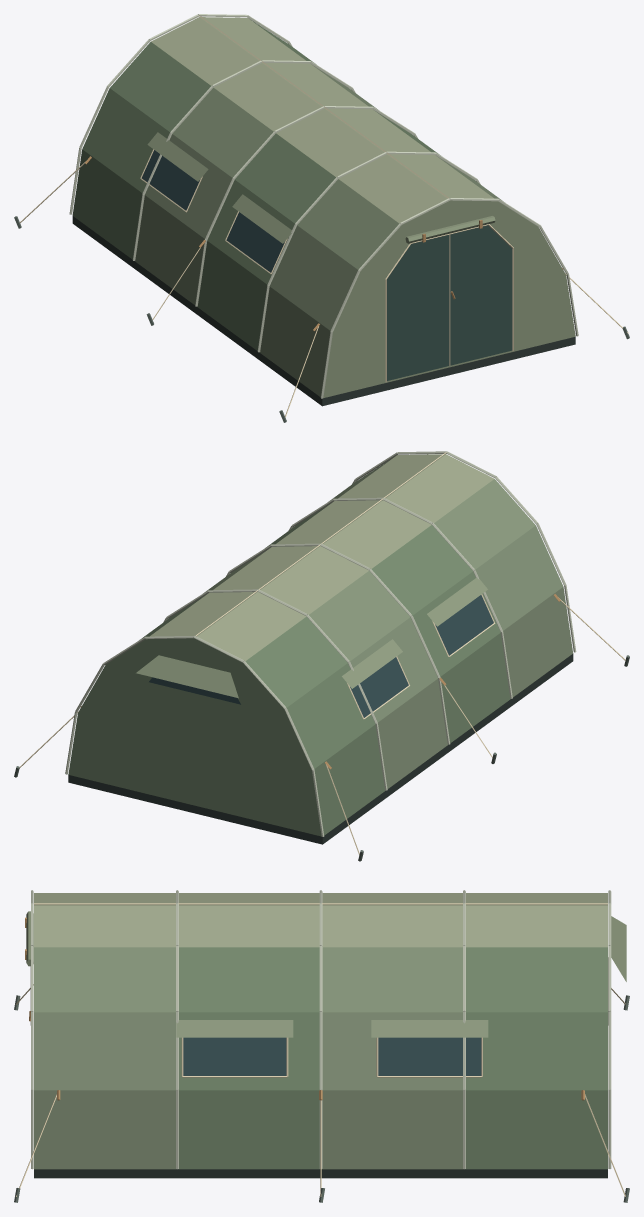
Rendered from 03_large_family_tunnel.glb.
3 views of the same model, one above another, from view 1: azimuth 30°, elevation 25°; view 2: azimuth 150°, elevation 25°; view 3: azimuth 270°, elevation 25° (orthographic). The views are drawn at different scales.
Visible parts, largest first — view 1: closed_front_door, canopy_bay_1_panel_2, canopy_bay_1_panel_3, canopy_bay_4_panel_3, canopy_bay_3_panel_3, canopy_bay_2_panel_3, canopy_bay_1_panel_1, canopy_bay_2_panel_1, canopy_bay_4_panel_2, canopy_bay_4_panel_1, canopy_bay_3_panel_1, bathtub_groundsheet (+23 smaller); view 2: rear_wall, canopy_bay_1_panel_2, canopy_bay_4_panel_3, canopy_bay_1_panel_3, canopy_bay_2_panel_3, canopy_bay_3_panel_3, canopy_bay_4_panel_2, canopy_bay_4_panel_1, canopy_bay_3_panel_1, canopy_bay_1_panel_1, canopy_bay_2_panel_1, bathtub_groundsheet (+16 smaller); view 3: canopy_bay_4_panel_8, canopy_bay_1_panel_8, canopy_bay_3_panel_8, canopy_bay_2_panel_8, canopy_bay_1_panel_7, canopy_bay_4_panel_7, canopy_bay_1_panel_6, canopy_bay_4_panel_6, canopy_bay_2_panel_6, canopy_bay_3_panel_6, canopy_bay_3_panel_7, canopy_bay_1_panel_5 (+15 smaller).
Boxes of the visible parts, x1,y1,x2,y2 form: closed_front_door: (387,225,512,380); canopy_bay_1_panel_2: (269,225,357,330); canopy_bay_1_panel_3: (297,179,399,269); canopy_bay_4_panel_3: (110,42,210,132); canopy_bay_3_panel_3: (172,87,273,177); canopy_bay_2_panel_3: (235,133,335,223); canopy_bay_1_panel_1: (260,287,330,397); canopy_bay_2_panel_1: (197,241,267,352); canopy_bay_4_panel_2: (82,88,169,192); canopy_bay_4_panel_1: (72,149,142,259); canopy_bay_3_panel_1: (135,195,204,304); bathtub_groundsheet: (72,216,575,406); rear_wall: (68,638,321,836); canopy_bay_1_panel_2: (475,525,563,630); canopy_bay_4_panel_3: (245,616,347,707); canopy_bay_1_panel_3: (434,479,535,569); canopy_bay_2_panel_3: (371,525,472,615); canopy_bay_3_panel_3: (309,571,409,661); canopy_bay_4_panel_2: (287,663,375,768); canopy_bay_4_panel_1: (314,724,384,835); canopy_bay_3_panel_1: (378,679,447,788); canopy_bay_1_panel_1: (503,587,573,697); canopy_bay_2_panel_1: (440,633,510,742); bathtub_groundsheet: (68,654,573,844); canopy_bay_4_panel_8: (465,1090,607,1169); canopy_bay_1_panel_8: (34,1090,176,1169); canopy_bay_3_panel_8: (322,1090,463,1169); canopy_bay_2_panel_8: (178,1090,319,1169); canopy_bay_1_panel_7: (34,1012,175,1090); canopy_bay_4_panel_7: (466,1012,607,1090); canopy_bay_1_panel_6: (34,947,175,1012); canopy_bay_4_panel_6: (466,947,607,1012); canopy_bay_2_panel_6: (179,947,319,1012); canopy_bay_3_panel_6: (322,947,462,1012); canopy_bay_3_panel_7: (322,1012,462,1090); canopy_bay_1_panel_5: (34,905,175,947).
Size of the model in its own units: 4.68 by 2.28 by 6.22.
